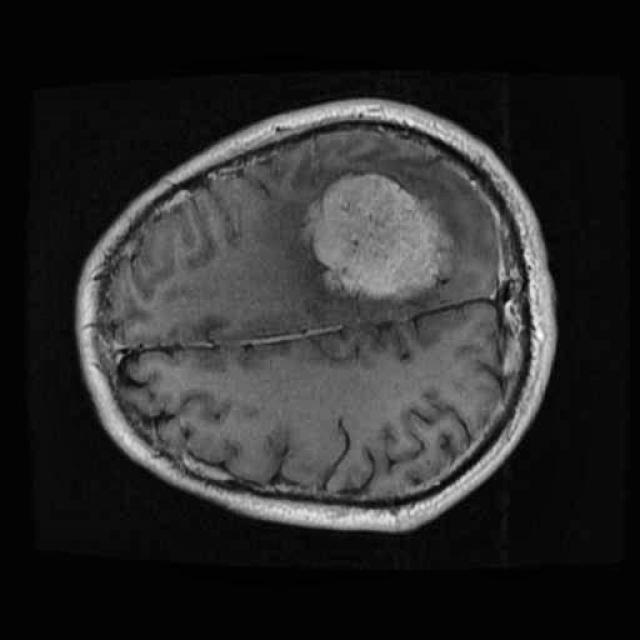Tumor: (291, 154, 468, 310)
